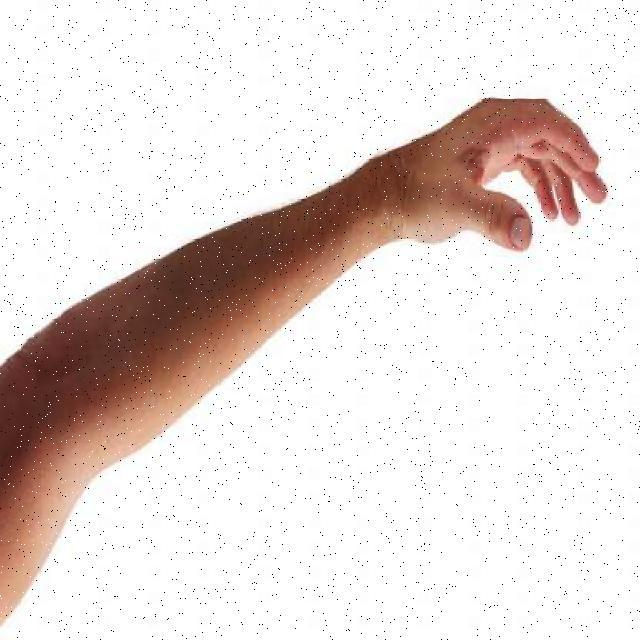no_apron: (396, 80, 618, 287)
